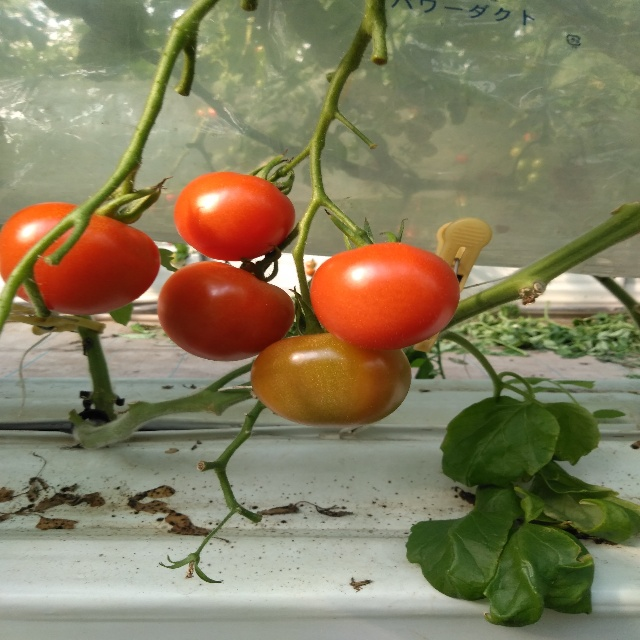l_fully_ripened: (0, 202, 161, 316), (310, 242, 461, 350), (157, 261, 296, 362), (174, 172, 295, 262)
l_half_ripened: (250, 332, 411, 428)
